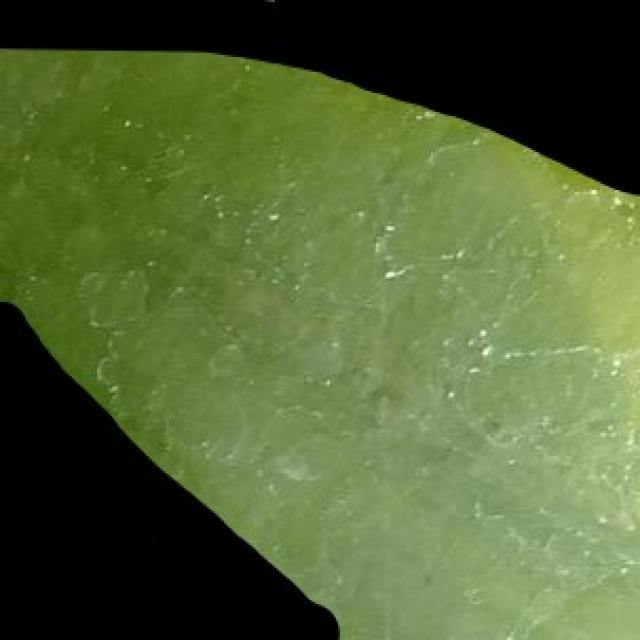mite: (209, 0, 317, 15), (247, 0, 287, 15), (114, 112, 142, 133), (237, 0, 298, 6), (118, 114, 133, 129), (253, 0, 279, 6)
spots: (0, 42, 638, 638)
sunburn: (0, 294, 342, 638)
